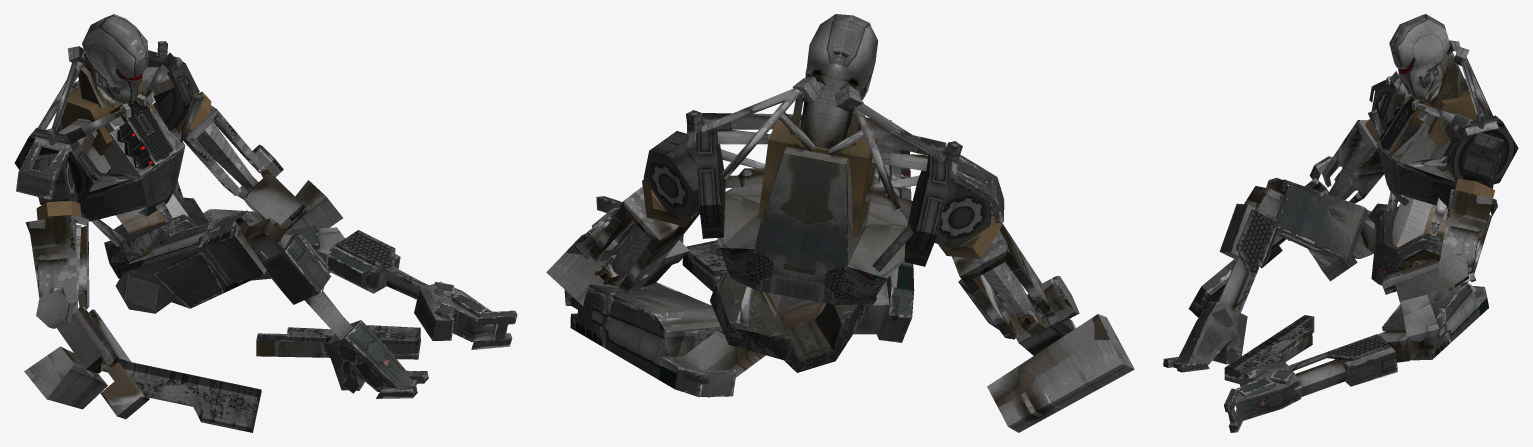
File: Vehicle_Robot01.glb
3 renders of one model, left to right at view 1: azimuth 30°, elevation 25°; view 2: azimuth 150°, elevation 25°; view 3: azimuth 270°, elevation 25°, orthographic. The views are drawn at different scales.
Parts seen in each view (by area): view 1: tingwang_robot_01; view 2: tingwang_robot_01; view 3: tingwang_robot_01.
Boxes of the visible parts, left/top/right/bottom form: tingwang_robot_01: left=14, top=14, right=517, bottom=432; tingwang_robot_01: left=546, top=14, right=1134, bottom=432; tingwang_robot_01: left=1163, top=14, right=1518, bottom=432.
Size of the model in its own units: 2.59 by 1.86 by 1.99.
Materials: 1 (1 with a texture image).
